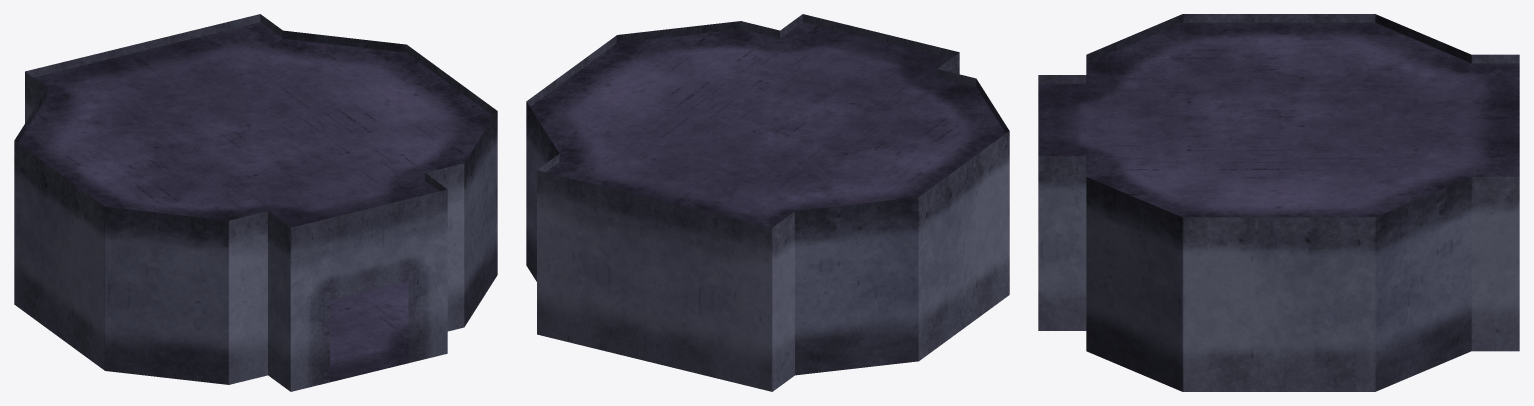
File: deadend0.glb
The picture shows the model from 3 angles, left to right: view 1: azimuth 30°, elevation 25°; view 2: azimuth 150°, elevation 25°; view 3: azimuth 270°, elevation 25°; orthographic projection. The views are drawn at different scales.
Parts seen in each view (by area): view 1: deadend0; view 2: deadend0; view 3: deadend0.
Part boxes in pixels (<box>): deadend0: <box>14,14,497,391</box>; deadend0: <box>526,14,1009,391</box>; deadend0: <box>1038,14,1519,391</box>.
Size of the model in its own units: 50 by 20 by 50.
Materials: 1 (1 with a texture image).
